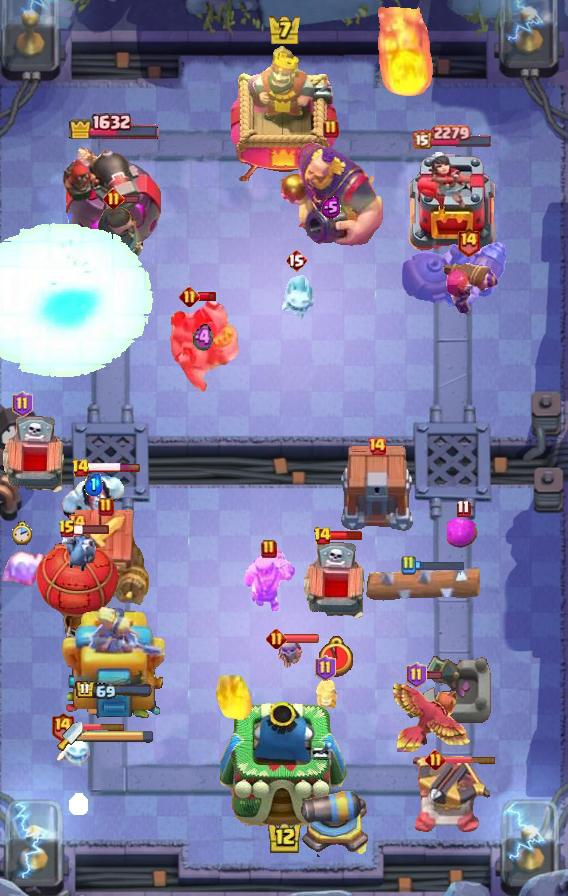arrows: (242, 548, 296, 614)
bar: (60, 607, 168, 731)
bat: (274, 272, 318, 322), (56, 726, 100, 772)
bomb: (338, 446, 416, 532)
cannon-cart: (34, 530, 120, 648)
cannoneer-tower: (167, 301, 239, 395)
electro-spirit: (193, 323, 213, 353), (321, 196, 341, 220), (84, 473, 104, 496)
elixir: (319, 636, 353, 677), (11, 521, 32, 546), (68, 793, 88, 815)
elixir-golem-mid: (0, 415, 70, 501), (301, 541, 371, 627)
emote: (414, 559, 466, 571), (87, 462, 141, 473), (72, 721, 126, 731), (443, 755, 497, 764), (74, 523, 110, 535), (284, 633, 320, 644), (329, 530, 363, 541), (198, 290, 217, 301), (120, 194, 139, 204), (425, 670, 444, 680)
goblin: (275, 635, 307, 675)
golden-knight: (389, 680, 471, 752)
ice-spirit-evolution: (312, 680, 338, 708)
king-tower: (220, 702, 348, 827), (231, 45, 337, 181)
king-tower-bar: (83, 729, 155, 743)
lava-pup: (408, 756, 490, 836)
lightning: (279, 140, 385, 250)
mega-knight: (0, 219, 160, 380)
mega-minion: (434, 258, 502, 314)
miner: (447, 518, 479, 548)
minion: (357, 562, 487, 604)
mirror: (0, 548, 46, 590)
queen-tower: (408, 152, 498, 256)
rage: (58, 470, 128, 522)
royal-delivery: (59, 530, 99, 574)
royal-hog: (95, 203, 157, 279)
royal-recruit: (297, 787, 371, 857)
selected: (67, 110, 160, 139), (412, 124, 494, 149), (75, 679, 153, 700)
sparky: (63, 509, 149, 607)
text: (456, 226, 481, 257), (50, 711, 75, 742), (11, 391, 32, 417), (316, 655, 337, 681), (405, 662, 426, 688), (285, 248, 307, 272), (179, 285, 201, 307), (103, 187, 124, 209), (265, 628, 286, 649), (426, 749, 447, 770), (367, 436, 387, 456), (70, 458, 90, 478), (67, 513, 87, 533), (312, 526, 331, 546), (58, 519, 76, 539), (323, 119, 339, 139), (98, 497, 114, 517), (261, 539, 277, 559), (400, 555, 416, 575), (456, 498, 471, 517)
tower-bar: (63, 136, 165, 256)
valkyrie: (376, 7, 438, 99), (213, 675, 253, 723)
wizard: (398, 239, 510, 309)
